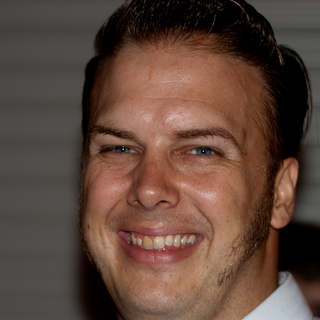eye: (178, 140, 227, 164), (98, 140, 142, 163)
